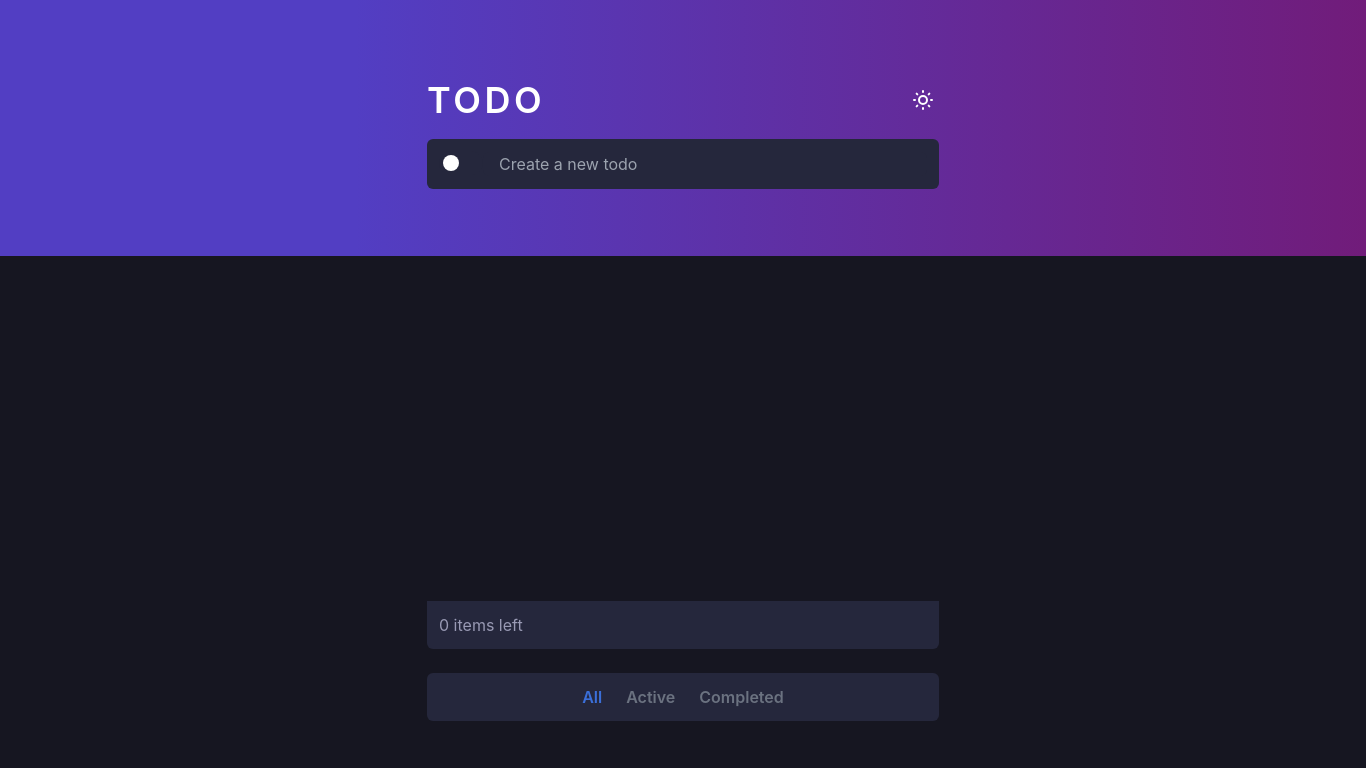
Test: Cypress Testing › should create a todo
Type "Buy Milk" into the field named "todoInput" at (705, 164), box [483,152,927,176]
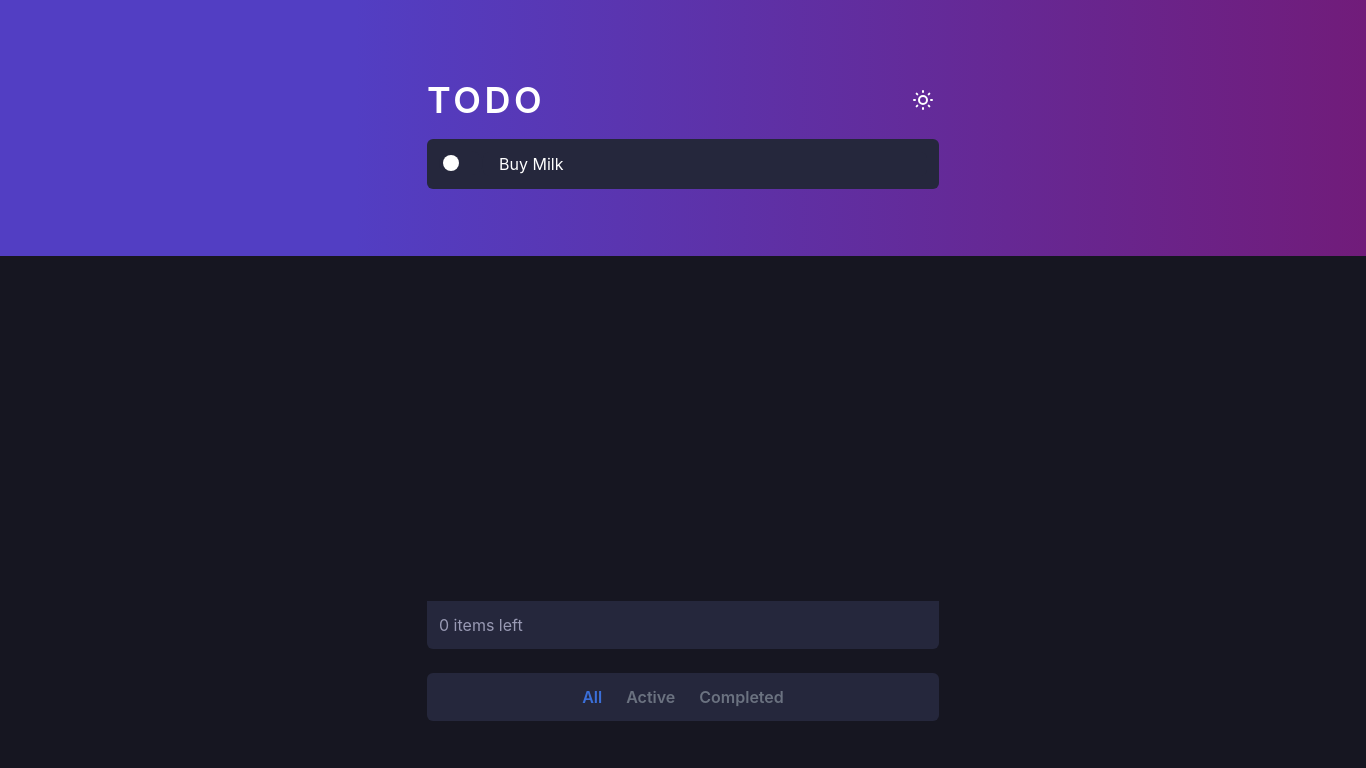
Press Enter in the field named "todoInput", box [483,152,927,176]
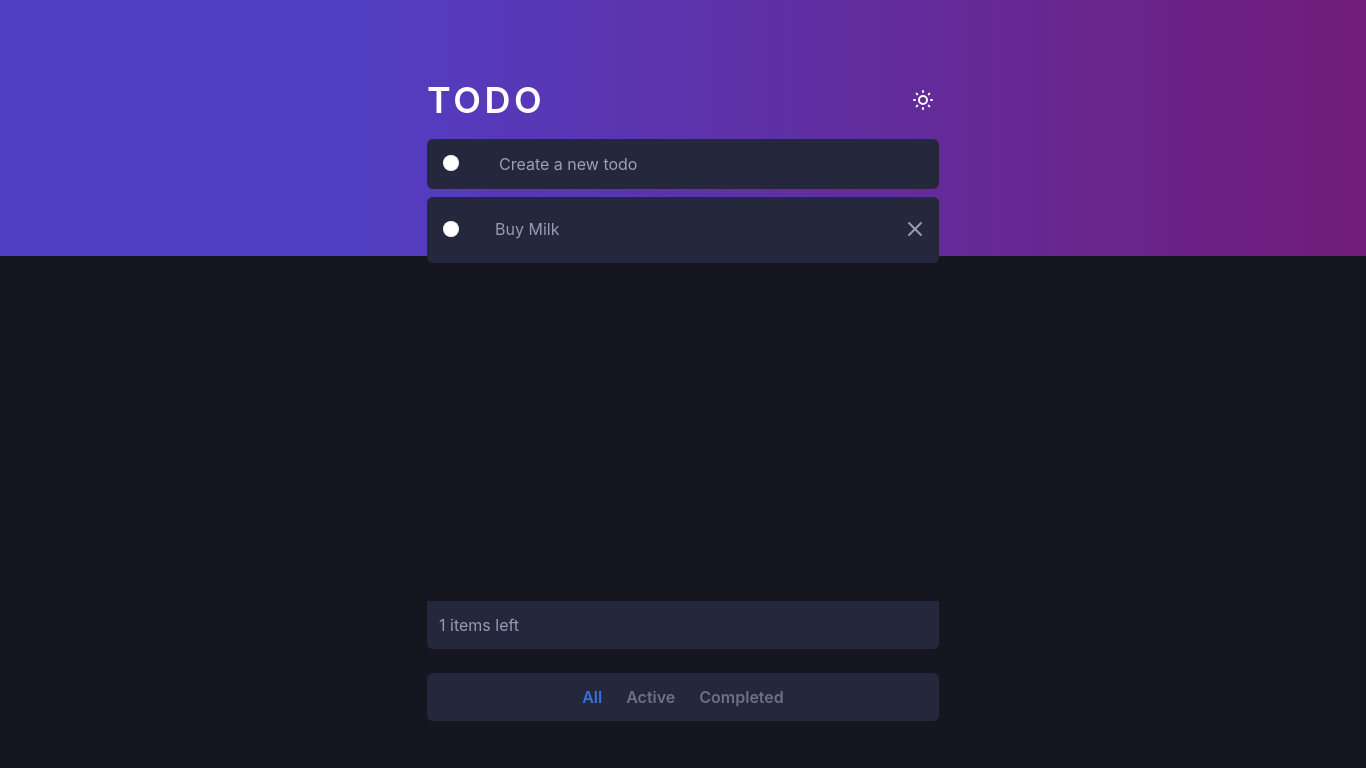
Expected: the text "Buy Milk" is shown, [495,219,559,239]
